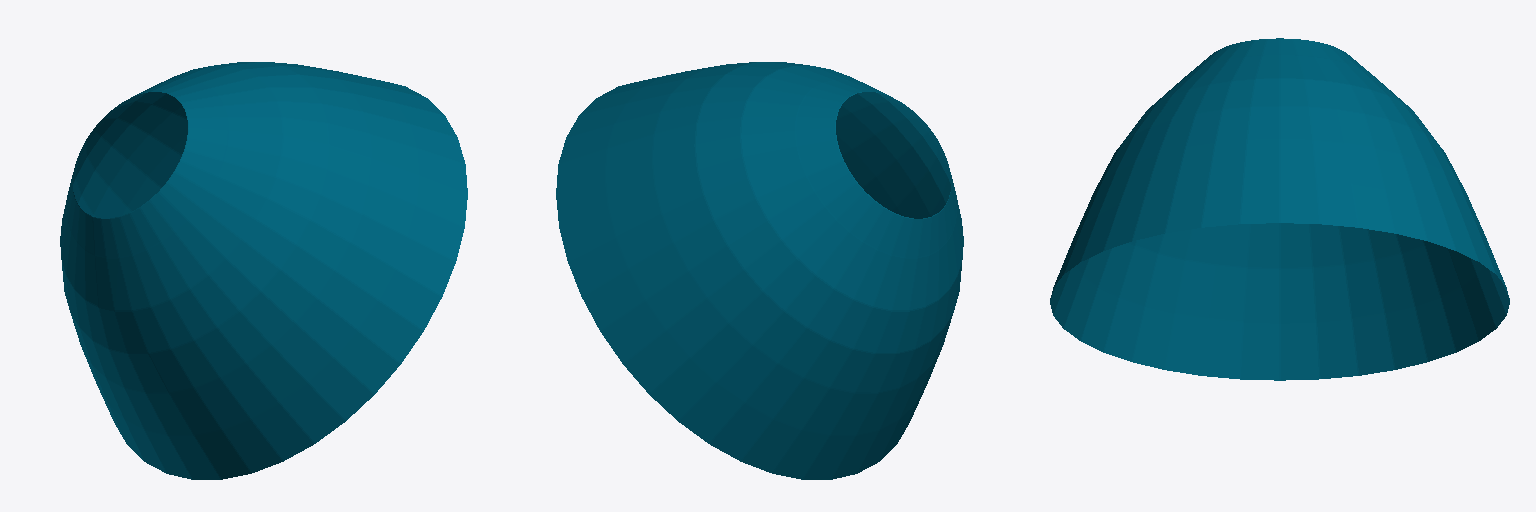
File: inside.obj
3 views of the same model, side by side, from view 1: azimuth 30°, elevation 25°; view 2: azimuth 150°, elevation 25°; view 3: azimuth 270°, elevation 25° (orthographic).
Visible parts, largest first — view 1: Cylinder010; view 2: Cylinder010; view 3: Cylinder010.
Boxes of the visible parts, <box> form: Cylinder010: <box>60,62,467,479</box>; Cylinder010: <box>556,62,963,479</box>; Cylinder010: <box>1050,38,1509,380</box>.
Bounding box in the file's own units: 5.25 × 5.25 × 6.13.